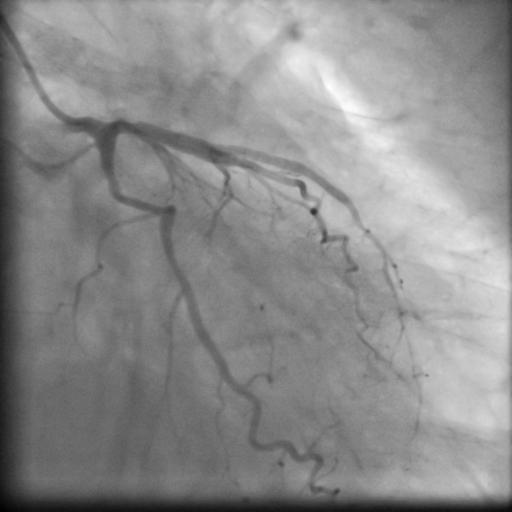Stenosis: (130, 190, 175, 221)
